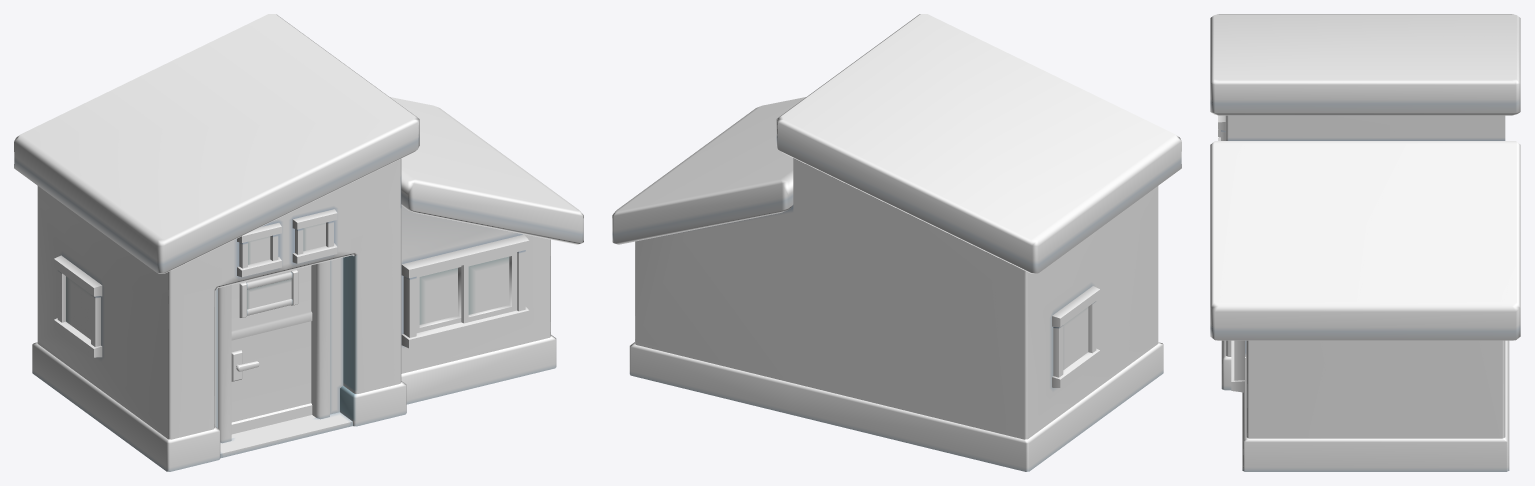
Rendered from house-pewter.glb.
3 renders of one model, left to right at view 1: azimuth 30°, elevation 25°; view 2: azimuth 150°, elevation 25°; view 3: azimuth 270°, elevation 25°, orthographic. The views are drawn at different scales.
Visible parts, largest first — view 1: house-pewter; view 2: house-pewter; view 3: house-pewter.
Part boxes in pixels (x1,y1,x2,y2): house-pewter: (14, 14, 583, 471); house-pewter: (612, 14, 1181, 471); house-pewter: (1210, 14, 1520, 471).
Bounding box in the file's own units: 4.99 × 3.33 × 3.
